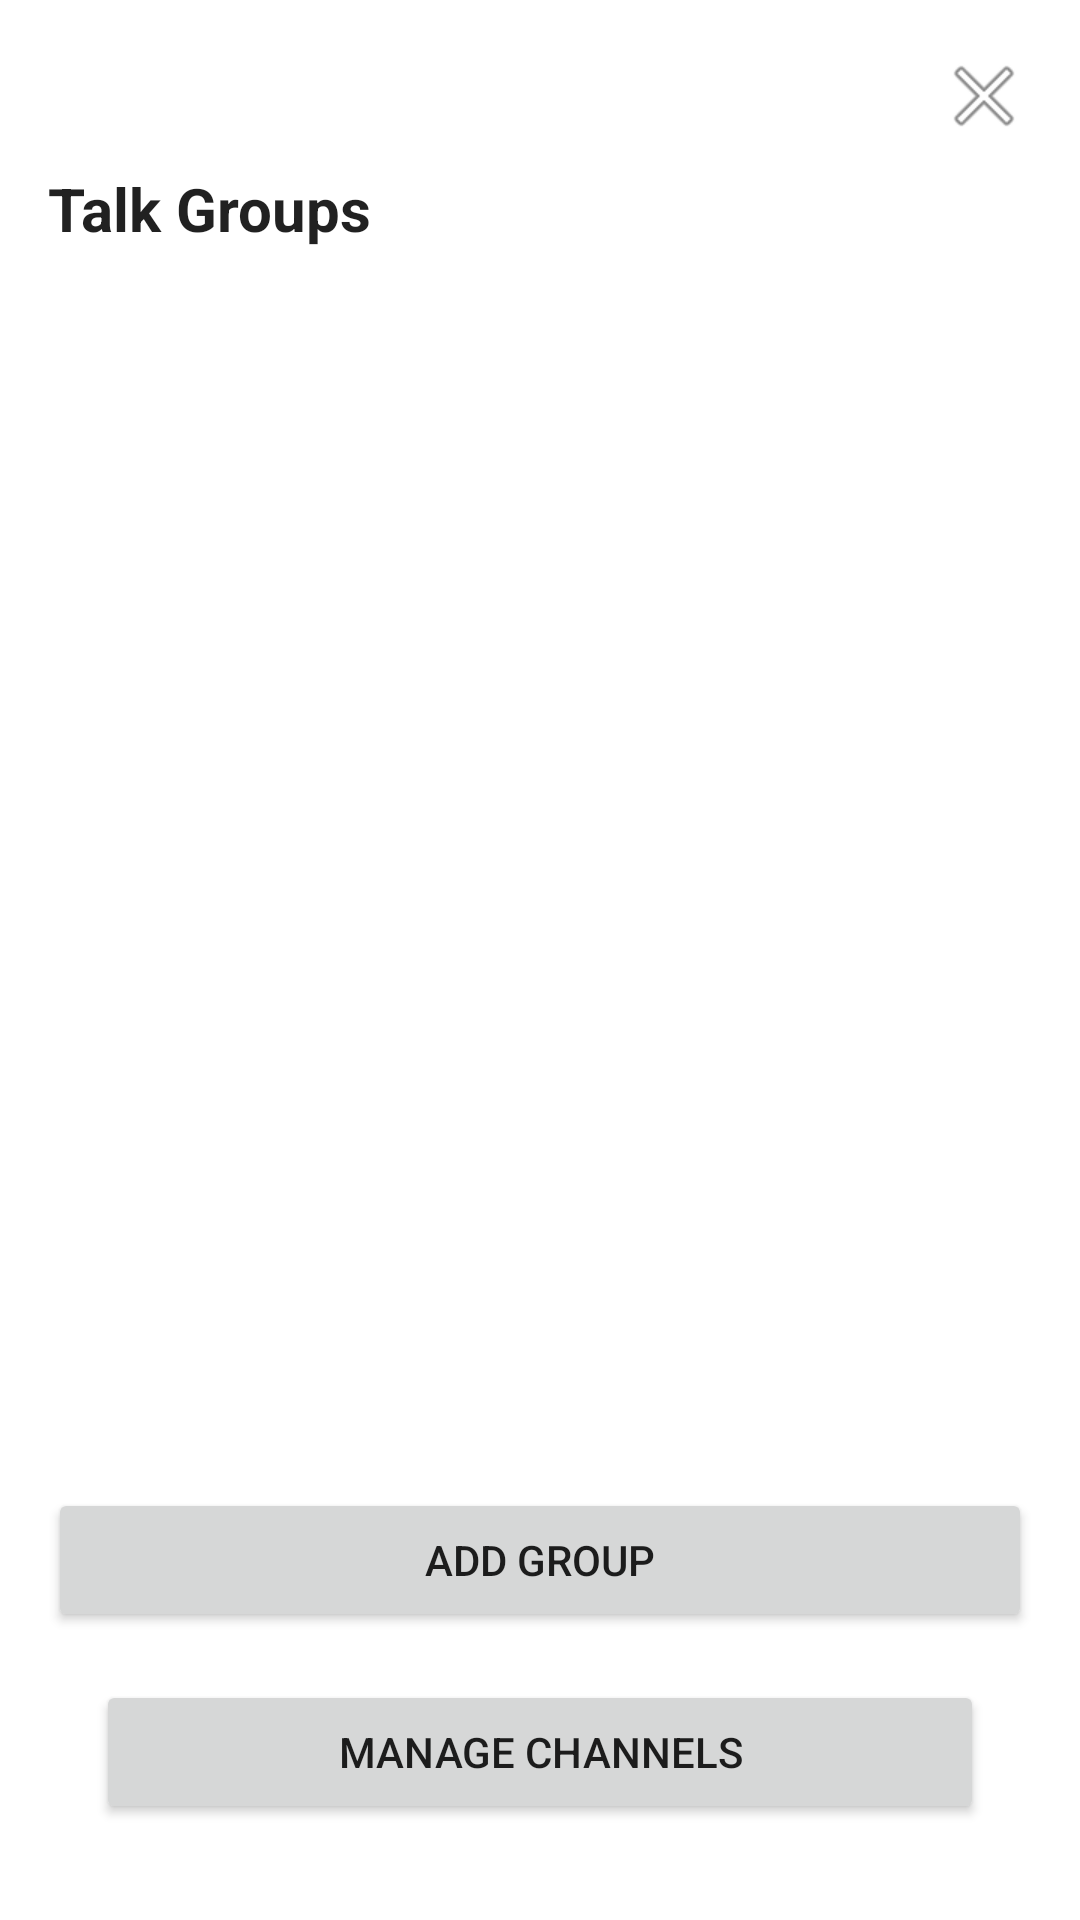

Icon bounding boxes for this 1080×1920 phone screenshot, format (x1, y1, x2, y2):
Close: (954, 66, 1014, 126)
